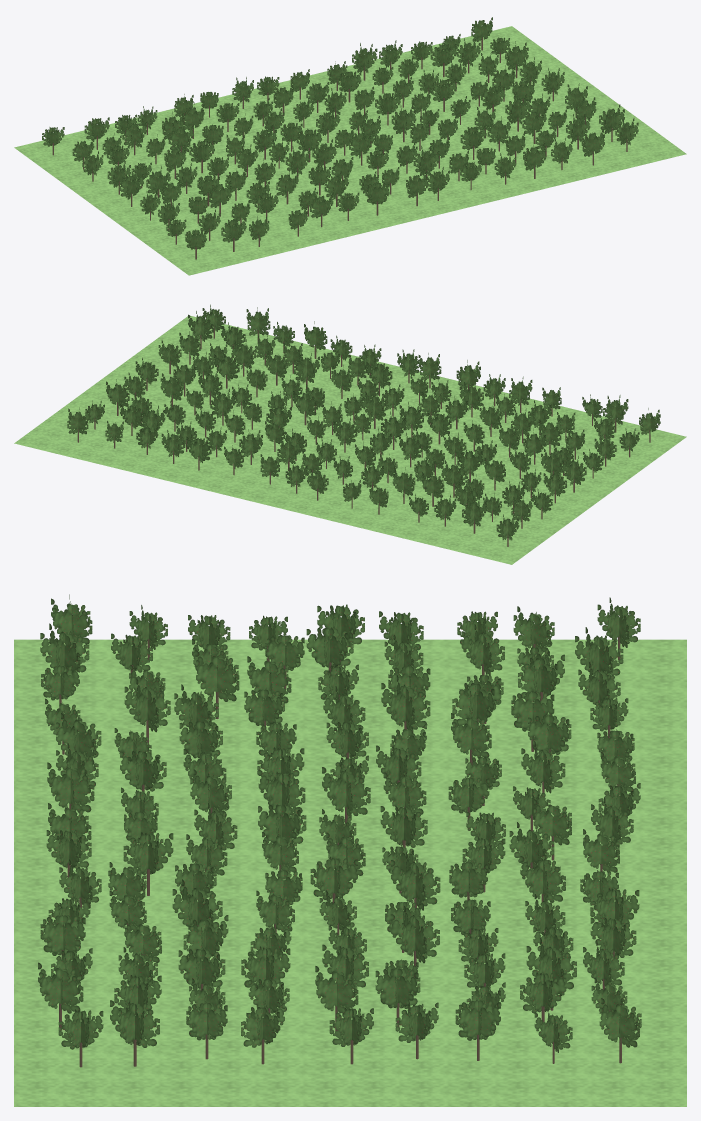
The model's file is orchard-west.glb.
The picture shows the model from 3 angles, top to bottom: view 1: azimuth 30°, elevation 25°; view 2: azimuth 150°, elevation 25°; view 3: azimuth 270°, elevation 25°; orthographic projection. The views are drawn at different scales.
Visible parts, largest first — view 1: orchard-west, orchard-west-trees; view 2: orchard-west, orchard-west-trees; view 3: orchard-west, orchard-west-trees.
Part boxes in pixels (box(x1,y1,x2,y2)): orchard-west: box(14, 26, 686, 275); orchard-west-trees: box(42, 17, 638, 259); orchard-west: box(14, 315, 686, 564); orchard-west-trees: box(67, 304, 660, 546); orchard-west: box(14, 639, 686, 1106); orchard-west-trees: box(38, 594, 641, 1067).
Bounding box in the file's own units: 115 × 7.36 × 70.
Materials: 3 (2 with a texture image).
